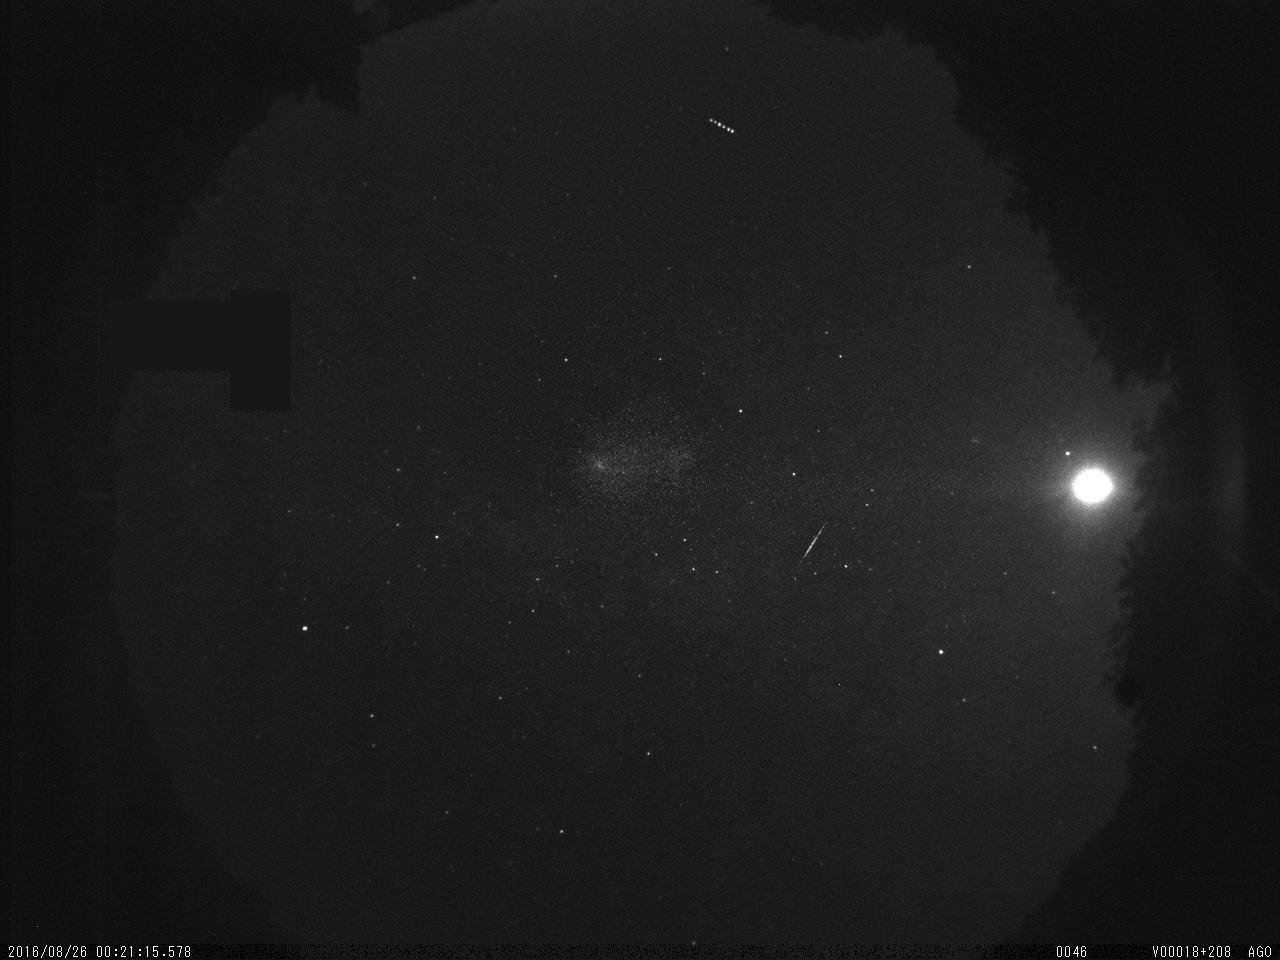meteor: (795, 508, 834, 572)
satelite: (701, 109, 743, 141)
